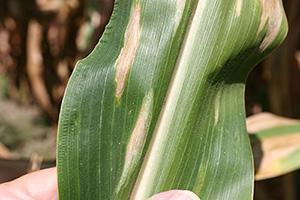Corn_Blight: (107, 4, 150, 102), (114, 110, 164, 192), (234, 0, 288, 53), (208, 83, 231, 138)
